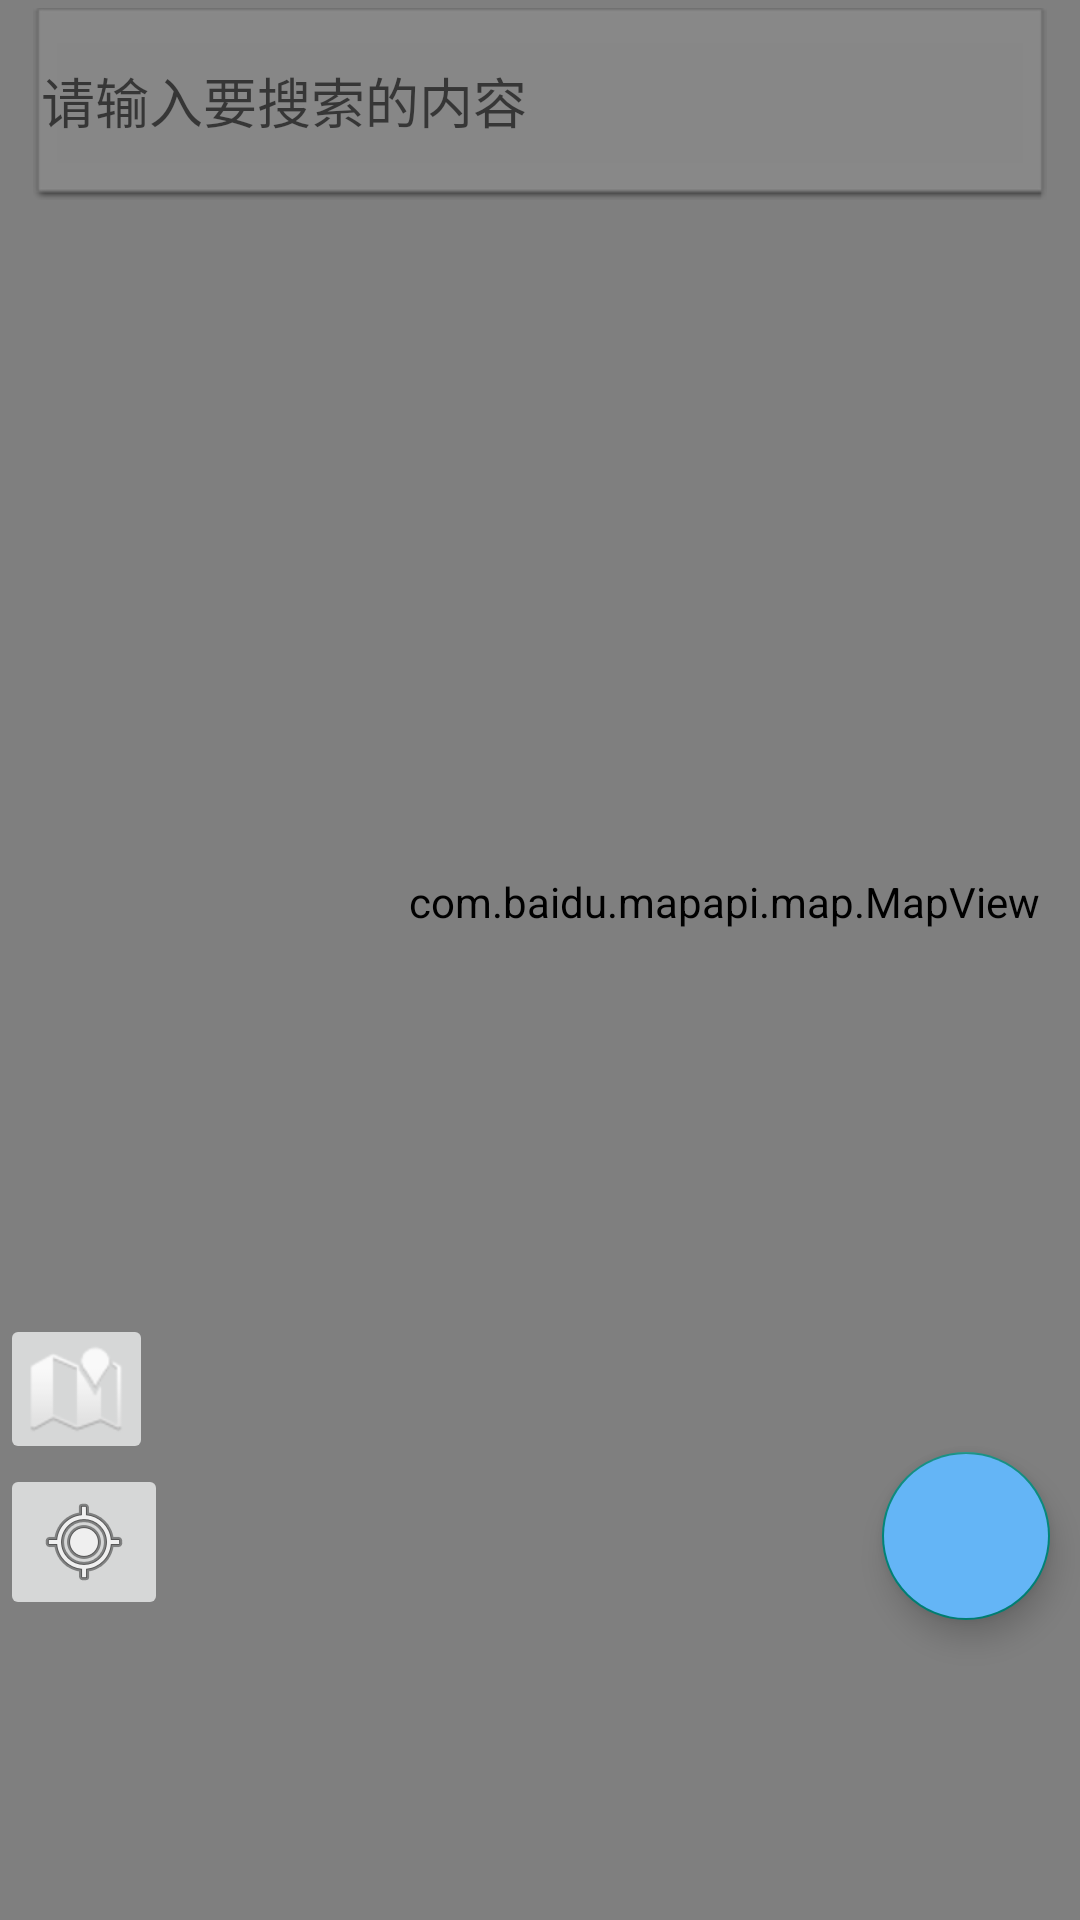

Where icons sit on this 1080x1920 app screen, as (x1, y1, x2, y2):
切换地图类型: (12, 1332, 141, 1446)
定位到当前位置: (12, 1482, 156, 1602)
